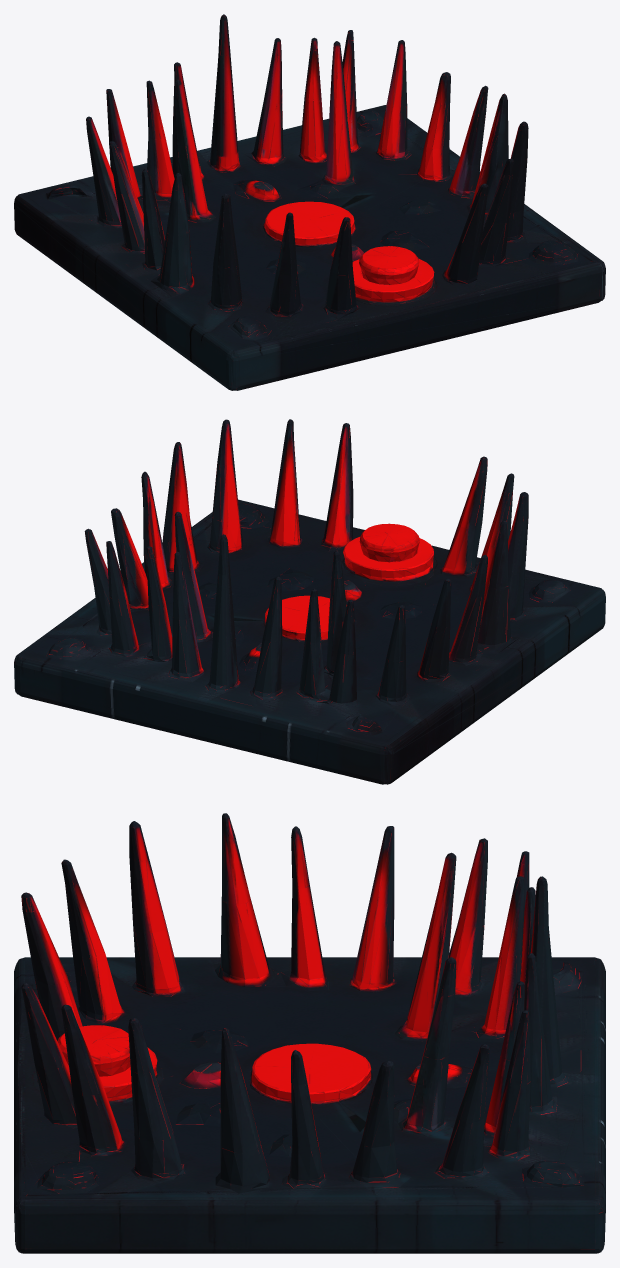
The model's file is trap-spike.glb.
3 views of the same model, one above another, from view 1: azimuth 30°, elevation 25°; view 2: azimuth 150°, elevation 25°; view 3: azimuth 270°, elevation 25° (orthographic). The views are drawn at different scales.
Size of the model in its own units: 0.0624 by 0.03 by 0.0627.
1 material, 1 textured.
